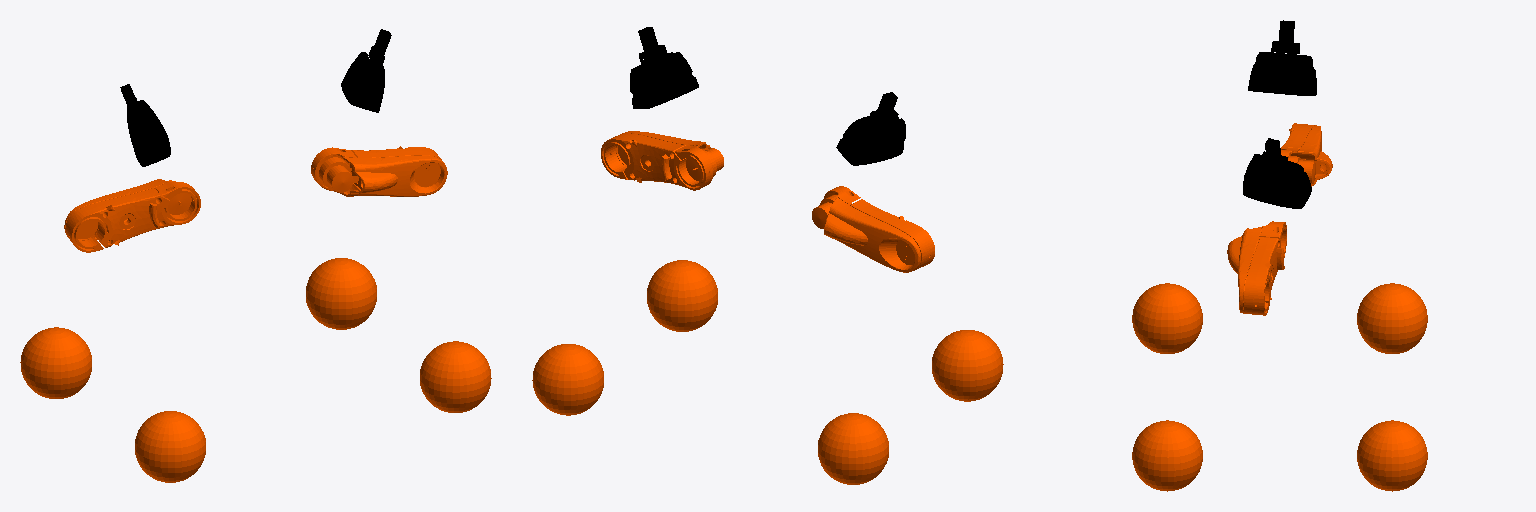
--- Facts derived from the render (not from the file) ---
3 views of the same robot in one strip: view 1: azimuth 30°, elevation 25°; view 2: azimuth 150°, elevation 25°; view 3: azimuth 270°, elevation 25° (orthographic).
Robot: youbot — 29 links, 28 joints (10 revolute, 8 continuous, 4 prismatic, 6 fixed); root link base_footprint; default pose: every joint at zero.
Visible links, largest first — view 1: arm_2_link_3, arm_link_3, wheel_link_fl, wheel_link_br, wheel_link_fr, wheel_link_bl, gripper_palm_link, gripper_2_palm_link; view 2: arm_2_link_3, arm_link_3, wheel_link_bl, wheel_link_fr, wheel_link_br, wheel_link_fl, gripper_palm_link, gripper_2_palm_link; view 3: wheel_link_bl, wheel_link_br, wheel_link_fl, wheel_link_fr, arm_link_3, gripper_2_palm_link, gripper_palm_link, arm_2_link_3.
Boxes of the visible links, x1,y1,x2,y2 form: arm_2_link_3: (64,179,200,252); arm_link_3: (311,146,447,196); wheel_link_fl: (306,258,376,329); wheel_link_br: (135,411,205,482); wheel_link_fr: (420,341,491,412); wheel_link_bl: (20,327,91,398); gripper_palm_link: (341,52,384,112); gripper_2_palm_link: (127,100,170,166); arm_2_link_3: (812,186,934,272); arm_link_3: (601,131,723,190); wheel_link_bl: (818,413,888,484); wheel_link_fr: (647,260,717,331); wheel_link_br: (932,330,1003,401); wheel_link_fl: (532,344,603,415); gripper_palm_link: (630,52,698,108); gripper_2_palm_link: (836,113,905,165); wheel_link_bl: (1357,283,1427,353); wheel_link_br: (1132,283,1202,353); wheel_link_fl: (1357,420,1427,491); wheel_link_fr: (1132,420,1202,491); arm_link_3: (1227,221,1286,315); gripper_2_palm_link: (1248,52,1316,95); gripper_palm_link: (1243,154,1311,208); arm_2_link_3: (1281,123,1332,186).
Bounding box of the posed robot: 0.5621 × 0.416 × 0.527 m (x, y, z).
Meshes: 10 distinct files referenced, 8 mesh visuals loaded (3 Collada DAE); not drawn: 12 (reference not matched to a file when rendering).

The robot description file, URDF, robot "youbot":
<?xml version="1.0" ?>
<!-- =================================================================================== -->
<!-- |    This document was autogenerated by xacro from robots/youbot_dual_arm.urdf.xacro | -->
<!-- |    EDITING THIS FILE BY HAND IS NOT RECOMMENDED                                 | -->
<!-- =================================================================================== -->
<robot name="youbot" xmlns:controller="http://playerstage.sourceforge.net/gazebo/xmlschema/#controller" xmlns:interface="http://playerstage.sourceforge.net/gazebo/xmlschema/#interface" xmlns:sensor="http://playerstage.sourceforge.net/gazebo/xmlschema/#sensor" xmlns:xacro="http://playerstage.sourceforge.net/gazebo/xmlschema/#interface">
  <!--property name="" value="0.360" /-->
  &gt;

	
  <gazebo>
    <plugin filename="libgazebo_ros_control.so" name="gazebo_ros_controller"/>
  </gazebo>
  <material name="Orange">
    <color rgba="1.0 0.4 0.0 1.0"/>
  </material>
  <material name="Grey">
    <color rgba="0.7 0.7 0.7 1.0"/>
  </material>
  <material name="DarkGrey">
    <color rgba="0.3 0.3 0.3 1.0"/>
  </material>
  <material name="White">
    <color rgba="1.0 1.0 1.0 1.0"/>
  </material>
  <material name="Black">
    <color rgba="0.0 0.0 0.0 1.0"/>
  </material>
  <material name="Red">
    <color rgba="1.0 0.0 0.0 1.0"/>
  </material>
  <material name="Green">
    <color rgba="0.0 1.0 0.0 1.0"/>
  </material>
  <material name="Blue">
    <color rgba="0.0 0.0 0.8 1.0"/>
  </material>
  <material name="LightGrey">
    <color rgba="0.82 0.82 0.82 1.0"/>
  </material>
  <!-- Now we can start using the macros xacro:included above to define the actual youbot -->
  <!-- The first use of a macro.  This one was defined in base.urdf.xacro above.
       A macro like this will expand to a set of link and joint definitions, and to additional
       Gazebo-related extensions (sensor plugins, etc).  The macro takes an argument, name, 
       that equals "base", and uses it to generate names for its component links and joints 
       (e.g., base_link).  The xacro:included origin block is also an argument to the macro.  By convention, 
       the origin block defines where the component is w.r.t its parent (in this case the parent 
       is the world frame). For more, see http://www.ros.org/wiki/xacro -->
  <link name="base_footprint">
    <inertial>
      <mass value="0.1"/>
      <origin rpy="0 0 0" xyz="0 0 -0.05"/>
      <inertia ixx="1.0" ixy="0.0" ixz="0.0" iyy="1.0" iyz="0.0" izz="1.0"/>
    </inertial>
    <visual>
      <origin rpy="0 0 0" xyz="0 0 0"/>
      <geometry>
        <box size="0.001 0.001 0.001"/>
      </geometry>
      <material name="Red"/>
    </visual>
    <collision>
      <origin rpy="0 0 0" xyz="0 0 -0.05"/>
      <geometry>
        <box size="0.001 0.001 0.001"/>
      </geometry>
    </collision>
  </link>
  <joint name="base_footprint_joint" type="fixed">
    <origin rpy="0 0 0" xyz="0 0 0"/>
    <child link="base_link"/>
    <parent link="base_footprint"/>
  </joint>
  <link name="base_link">
    <inertial>
      <mass value="22.0"/>
      <origin xyz="0 0 0"/>
      <inertia ixx="5.652232699207" ixy="-0.009719934438" ixz="1.293988226423" iyy="5.669473158652" iyz="-0.007379583694" izz="3.683196351726"/>
    </inertial>
    <visual>
      <origin rpy="0 0 0" xyz="0 0 0"/>
      <geometry>
        <mesh filename="meshes/youbot_base/base.dae"/>
      </geometry>
      <material name="DarkGrey"/>
    </visual>
    <collision>
      <origin rpy="0 0 0" xyz="0 0 0"/>
      <geometry>
        <!--<box size="${base_size_x} ${base_size_y} ${base_size_z}" />-->
        <mesh filename="meshes/youbot_base/base_convex.dae"/>
      </geometry>
    </collision>
  </link>
  <!-- front left wheel -->
  <joint name="caster_joint_fl" type="continuous">
    <origin rpy="0 0 0" xyz="0.228 0.158 -0.034"/>
    <axis xyz="0 0 1"/>
    <limit effort="30" velocity="10"/>
    <dynamics damping="1.0" friction="1.0"/>
    <safety_controller k_velocity="10.0"/>
    <parent link="base_link"/>
    <child link="caster_link_fl"/>
  </joint>
  <link name="caster_link_fl">
    <inertial>
      <mass value="0.1"/>
      <origin xyz="0 0 0"/>
      <inertia ixx="0.012411765597" ixy="-0.000711733678" ixz="0.00050272983" iyy="0.015218160428" iyz="-0.000004273467" izz="0.011763977943"/>
    </inertial>
  </link>
  <joint name="wheel_joint_fl" type="continuous">
    <axis xyz="0 1 0"/>
    <limit effort="30" velocity="10"/>
    <origin rpy="0 0 0" xyz="0.0 0.0 0.0"/>
    <parent link="caster_link_fl"/>
    <dynamics damping="1.0" friction="1.0"/>
    <safety_controller k_velocity="10.0"/>
    <child link="wheel_link_fl"/>
  </joint>
  <link name="wheel_link_fl">
    <inertial>
      <mass value="0.4"/>
      <origin xyz="0 0 0"/>
      <inertia ixx="0.012411765597" ixy="-0.000711733678" ixz="0.00050272983" iyy="0.015218160428" iyz="-0.000004273467" izz="0.011763977943"/>
    </inertial>
    <visual>
      <origin rpy="0 0 0" xyz="0 0 0"/>
      <!--<mesh filename="meshes/youbot_base/youbot_wheel.stl" />-->
      <geometry>
        <sphere radius="0.05"/>
      </geometry>
      <material name="Orange"/>
    </visual>
    <collision>
      <origin rpy="1.57079632679 0 0" xyz="0 0 0"/>
      <geometry>
        <cylinder length="0.05" radius="0.05"/>
      </geometry>
    </collision>
  </link>
  <!-- front right wheel -->
  <joint name="caster_joint_fr" type="continuous">
    <origin rpy="0 0 0" xyz="0.228 -0.158 -0.034"/>
    <axis xyz="0 0 1"/>
    <limit effort="30" velocity="10"/>
    <dynamics damping="1.0" friction="1.0"/>
    <safety_controller k_velocity="10.0"/>
    <parent link="base_link"/>
    <child link="caster_link_fr"/>
  </joint>
  <link name="caster_link_fr">
    <inertial>
      <mass value="0.1"/>
      <origin xyz="0 0 0"/>
      <inertia ixx="0.012411765597" ixy="-0.000711733678" ixz="0.00050272983" iyy="0.015218160428" iyz="-0.000004273467" izz="0.011763977943"/>
    </inertial>
  </link>
  <joint name="wheel_joint_fr" type="continuous">
    <axis xyz="0 1 0"/>
    <limit effort="30" velocity="10"/>
    <dynamics damping="1.0" friction="1.0"/>
    <safety_controller k_velocity="10.0"/>
    <origin rpy="0 0 0" xyz="0.0 0.0 0.0"/>
    <parent link="caster_link_fr"/>
    <child link="wheel_link_fr"/>
  </joint>
  <link name="wheel_link_fr">
    <inertial>
      <mass value="0.4"/>
      <origin xyz="0 0 0"/>
      <inertia ixx="0.012411765597" ixy="-0.000711733678" ixz="0.00050272983" iyy="0.015218160428" iyz="-0.000004273467" izz="0.011763977943"/>
    </inertial>
    <visual>
      <origin rpy="0 0 0" xyz="0 0 0"/>
      <geometry>
        <!--<mesh filename="meshes/youbot_base/youbot_wheel.stl" />-->
        <sphere radius="0.05"/>
      </geometry>
      <material name="Orange"/>
    </visual>
    <collision>
      <origin rpy="1.57079632679 0 0" xyz="0 0 0"/>
      <geometry>
        <cylinder length="0.05" radius="0.05"/>
      </geometry>
    </collision>
  </link>
  <!-- back left wheel -->
  <joint name="caster_joint_bl" type="continuous">
    <origin rpy="0 0 0" xyz="-0.228 0.158 -0.034"/>
    <axis xyz="0 0 1"/>
    <limit effort="30" velocity="10"/>
    <dynamics damping="1.0" friction="1.0"/>
    <safety_controller k_velocity="10.0"/>
    <parent link="base_link"/>
    <child link="caster_link_bl"/>
  </joint>
  <link name="caster_link_bl">
    <inertial>
      <mass value="0.1"/>
      <origin xyz="0 0 0"/>
      <inertia ixx="0.012411765597" ixy="-0.000711733678" ixz="0.00050272983" iyy="0.015218160428" iyz="-0.000004273467" izz="0.011763977943"/>
    </inertial>
  </link>
  <joint name="wheel_joint_bl" type="continuous">
    <axis xyz="0 1 0"/>
    <limit effort="10" velocity="10"/>
    <limit effort="30" velocity="10"/>
    <dynamics damping="1.0" friction="1.0"/>
    <safety_controller k_velocity="10.0"/>
    <origin rpy="0 0 0" xyz="0.0 0.0 0.0"/>
    <parent link="caster_link_bl"/>
    <child link="wheel_link_bl"/>
  </joint>
  <link name="wheel_link_bl">
    <inertial>
      <mass value="0.4"/>
      <origin xyz="0 0 0"/>
      <inertia ixx="0.012411765597" ixy="-0.000711733678" ixz="0.00050272983" iyy="0.015218160428" iyz="-0.000004273467" izz="0.011763977943"/>
    </inertial>
    <visual>
      <origin rpy="0 0 0" xyz="0 0 0"/>
      <geometry>
        <!--<mesh filename="meshes/youbot_base/youbot_wheel.stl" />-->
        <sphere radius="0.05"/>
      </geometry>
      <material name="Orange"/>
    </visual>
    <collision>
      <origin rpy="1.57079632679 0 0" xyz="0 0 0"/>
      <geometry>
        <cylinder length="0.05" radius="0.05"/>
      </geometry>
    </collision>
  </link>
  <!-- back right wheel -->
  <joint name="caster_joint_br" type="continuous">
    <origin rpy="0 0 0" xyz="-0.228 -0.158 -0.034"/>
    <axis xyz="0 0 1"/>
    <limit effort="30" velocity="10"/>
    <dynamics damping="1.0" friction="1.0"/>
    <safety_controller k_velocity="10.0"/>
    <parent link="base_link"/>
    <child link="caster_link_br"/>
  </joint>
  <link name="caster_link_br">
    <inertial>
      <mass value="0.1"/>
      <origin xyz="0 0 0"/>
      <inertia ixx="0.012411765597" ixy="-0.000711733678" ixz="0.00050272983" iyy="0.015218160428" iyz="-0.000004273467" izz="0.011763977943"/>
    </inertial>
  </link>
  <joint name="wheel_joint_br" type="continuous">
    <axis xyz="0 1 0"/>
    <limit effort="30" velocity="10"/>
    <dynamics damping="1.0" friction="1.0"/>
    <safety_controller k_velocity="10.0"/>
    <origin rpy="0 0 0" xyz="0.0 0.0 0.0"/>
    <parent link="caster_link_br"/>
    <child link="wheel_link_br"/>
  </joint>
  <link name="wheel_link_br">
    <inertial>
      <mass value="0.4"/>
      <origin xyz="0 0 0"/>
      <inertia ixx="0.012411765597" ixy="-0.000711733678" ixz="0.00050272983" iyy="0.015218160428" iyz="-0.000004273467" izz="0.011763977943"/>
    </inertial>
    <visual>
      <origin rpy="0 0 0" xyz="0 0 0"/>
      <geometry>
        <!--<mesh filename="meshes/youbot_base/youbot_wheel.stl" />-->
        <sphere radius="0.05"/>
      </geometry>
      <material name="Orange"/>
    </visual>
    <collision>
      <origin rpy="1.57079632679 0 0" xyz="0 0 0"/>
      <geometry>
        <cylinder length="0.05" radius="0.05"/>
      </geometry>
    </collision>
  </link>
  <gazebo reference="youbot_base">
    <material value="youbot/DarkGrey"/>
  </gazebo>
  <!-- front left wheel -->
  <gazebo reference="wheel_link_fl">
    <material value="youbot/Orange"/>
    <kp>1000000</kp>
    <kd>100</kd>
  </gazebo>
  <gazebo reference="caster_link_fl">
    <material value="youbot/Orange"/>
  </gazebo>
  <!-- front right wheel -->
  <gazebo reference="wheel_link_fr">
    <material value="youbot/Orange"/>
    <kp>1000000</kp>
    <kd>100</kd>
  </gazebo>
  <gazebo reference="caster_link_fr">
    <material value="youbot/Orange"/>
  </gazebo>
  <!-- back left wheel -->
  <gazebo reference="wheel_link_bl">
    <material value="youbot/Orange"/>
    <kp>1000000</kp>
    <kd>100</kd>
  </gazebo>
  <gazebo reference="caster_link_bl">
    <material value="youbot/Orange"/>
  </gazebo>
  <!-- back right wheel -->
  <gazebo reference="wheel_link_br">
    <material value="youbot/Orange"/>
    <kp>1000000</kp>
    <kd>100</kd>
  </gazebo>
  <gazebo reference="caster_link_br">
    <material value="youbot/Orange"/>
  </gazebo>
  <!-- position controller -->
  <gazebo>
    <plugin filename="libgazebo_ros_planar_move.so" name="base_controller">
      <commandTopic>cmd_vel</commandTopic>
      <odometryTopic>odom</odometryTopic>
      <odometryFrame>odom</odometryFrame>
      <odometryRate>100.0</odometryRate>
      <robotBaseFrame>base_footprint</robotBaseFrame>
    </plugin>
  </gazebo>
  <!-- front left wheel -->
  <transmission name="wheel_trans_fl">
    <type>transmission_interface/SimpleTransmission</type>
    <actuator name="wheel_motor_fl">
      <hardwareInterface>VelocityJointInterface</hardwareInterface>
      <mechanicalReduction>79.2380952381</mechanicalReduction>
    </actuator>
    <joint name="wheel_joint_fl">
      <hardwareInterface>VelocityJointInterface</hardwareInterface>
    </joint>
  </transmission>
  <transmission name="caster_trans_fl">
    <type>transmission_interface/SimpleTransmission</type>
    <actuator name="caster_motor_fl">
      <hardwareInterface>VelocityJointInterface</hardwareInterface>
      <mechanicalReduction>79.2380952381</mechanicalReduction>
    </actuator>
    <joint name="caster_joint_fl">
      <hardwareInterface>VelocityJointInterface</hardwareInterface>
    </joint>
  </transmission>
  <!-- front right wheel -->
  <transmission name="wheel_trans_fr">
    <type>transmission_interface/SimpleTransmission</type>
    <actuator name="wheel_motor_fr">
      <hardwareInterface>VelocityJointInterface</hardwareInterface>
      <mechanicalReduction>79.2380952381</mechanicalReduction>
    </actuator>
    <joint name="wheel_joint_fr">
      <hardwareInterface>VelocityJointInterface</hardwareInterface>
    </joint>
  </transmission>
  <transmission name="caster_trans_fr">
    <type>transmission_interface/SimpleTransmission</type>
    <actuator name="caster_motor_fr">
      <hardwareInterface>VelocityJointInterface</hardwareInterface>
      <mechanicalReduction>79.2380952381</mechanicalReduction>
    </actuator>
    <joint name="caster_joint_fr">
      <hardwareInterface>VelocityJointInterface</hardwareInterface>
    </joint>
  </transmission>
  <!-- back left wheel -->
  <transmission name="wheel_trans_bl">
    <type>transmission_interface/SimpleTransmission</type>
    <actuator name="wheel_motor_bl">
      <hardwareInterface>VelocityJointInterface</hardwareInterface>
      <mechanicalReduction>79.2380952381</mechanicalReduction>
    </actuator>
    <joint name="wheel_joint_bl">
      <hardwareInterface>VelocityJointInterface</hardwareInterface>
    </joint>
  </transmission>
  <transmission name="caster_trans_bl">
    <type>transmission_interface/SimpleTransmission</type>
    <actuator name="caster_motor_bl">
      <hardwareInterface>VelocityJointInterface</hardwareInterface>
      <mechanicalReduction>79.2380952381</mechanicalReduction>
    </actuator>
    <joint name="caster_joint_bl">
      <hardwareInterface>VelocityJointInterface</hardwareInterface>
    </joint>
  </transmission>
  <!-- back right wheel -->
  <transmission name="wheel_trans_br">
    <type>transmission_interface/SimpleTransmission</type>
    <actuator name="wheel_motor_br">
      <hardwareInterface>VelocityJointInterface</hardwareInterface>
      <mechanicalReduction>79.2380952381</mechanicalReduction>
    </actuator>
    <joint name="wheel_joint_br">
      <hardwareInterface>VelocityJointInterface</hardwareInterface>
    </joint>
  </transmission>
  <transmission name="caster_trans_br">
    <type>transmission_interface/SimpleTransmission</type>
    <actuator name="caster_motor_br">
      <hardwareInterface>VelocityJointInterface</hardwareInterface>
      <mechanicalReduction>79.2380952381</mechanicalReduction>
    </actuator>
    <joint name="caster_joint_br">
      <hardwareInterface>VelocityJointInterface</hardwareInterface>
    </joint>
  </transmission>
  <!-- joint between base_link and arm_0_link -->
  <joint name="arm_joint_0" type="fixed">
    <origin rpy="0 0 0" xyz="0.123 0 0.046"/>
    <parent link="base_link"/>
    <child link="arm_link_0"/>
  </joint>
  <link name="arm_link_0">
    <inertial>
      <!--<origin xyz="0.023 0 0.006" rpy="0 0 0"/>-->
      <origin rpy="0 0 0" xyz="0 0 0"/>
      <mass value="0.845"/>
      <inertia ixx="0.01" ixy="0" ixz="0" iyy="0.01" iyz="0" izz="0.01"/>
    </inertial>
    <visual>
      <origin rpy="0 0 0" xyz="0 0 0"/>
      <geometry>
        <mesh filename="meshes/youbot_arm/arm0.dae"/>
      </geometry>
      <material name="DarkGrey"/>
    </visual>
    <collision>
      <!--<origin xyz="0.023 0 0.006" rpy="0 0 0"/>-->
      <origin rpy="0 0 0" xyz="0 0 0"/>
      <geometry>
        <mesh filename="meshes/youbot_arm/arm0_convex.dae"/>
        <!--<cylinder length="0.078" radius="0.093"/>-->
      </geometry>
    </collision>
  </link>
  <!-- joint between arm_0_link and arm_1_link -->
  <joint name="arm_joint_1" type="revolute">
    <origin rpy="0 0 2.96705972839" xyz="0.024 0 0.096"/>
    <parent link="arm_link_0"/>
    <child link="arm_link_1"/>
    <axis xyz="0 0 -1"/>
    <!--<calibration rising="${arm_1_ref}" falling="${arm_1_ref}"/>-->
    <dynamics damping="1" friction="1"/>
    <!-- damping - N*s/m, N*s*m/rad -->
    <!-- friction - N, N*m -->
    <limit effort="9.5" lower="0" upper="5.89921287174" velocity="1.57079632679"/>
    <!--effort - N, N*m-->
    <!--velocity - m/s, rad/s-->
    <safety_controller k_position="20" k_velocity="1.51197195937" soft_lower_limit="0.001" soft_upper_limit="5.89821287174"/>
    <!--k_position N/m, N/rad-->
    <!--k_velocity N*s/m, N*s*m/rad-->
    <!--for details: http://www.ros.org/wiki/pr2_controller_manager/safety_limits-->
  </joint>
  <link name="arm_link_1">
    <inertial>
      <mass value="2.412"/>
      <origin rpy="0 0 0" xyz="0.01489 0.00213 0.00213"/>
      <inertia ixx="0.003863" ixy="-0.000979" ixz="0.000000" iyy="0.006196" iyz="0.000000" izz="0.006369"/>
    </inertial>
    <visual>
      <origin rpy="0 0 0" xyz="0 0 0"/>
      <geometry>
        <mesh filename="meshes/youbot_arm/arm1.dae"/>
      </geometry>
      <!--<material name="Orange" />-->
    </visual>
    <collision>
      <!--<origin xyz="0 0 -0.003" rpy="0 0 0" />-->
      <origin rpy="0 0 0" xyz="0 0 0"/>
      <geometry>
        <mesh filename="meshes/youbot_arm/arm1_convex.dae"/>
        <!--<cylinder length="0.102" radius="0.080"/>-->
      </geometry>
    </collision>
  </link>
  <!-- joint between arm_1_link and arm_2_link -->
  <joint name="arm_joint_2" type="revolute">
    <origin rpy="0 -1.1344640138 0" xyz="0.033 0 0.019"/>
    <parent link="arm_link_1"/>
    <child link="arm_link_2"/>
    <axis xyz="0 1 0"/>
    <!--<calibration rising="${arm_2_ref}" falling="${arm_2_ref}"/>-->
    <dynamics damping="1" friction="1"/>
    <limit effort="9.5" lower="0" upper="2.70526034059" velocity="1.57079632679"/>
    <safety_controller k_position="20" k_velocity="6.04788783749" soft_lower_limit="0.001" soft_upper_limit="2.70426034059"/>
  </joint>
  <link name="arm_link_2">
    <inertial>
      <mass value="1.155"/>
      <origin rpy="0 0 0" xyz="0.10453 0.0017 -0.00297"/>
      <inertia ixx="0.000823" ixy="0.000000" ixz="-0.000000" iyy="0.004447" iyz="0.000000" izz="0.004439"/>
    </inertial>
    <visual>
      <origin rpy="0 0 0" xyz="0 -0.032 0.078"/>
      <geometry>
        <mesh filename="meshes/youbot_arm/arm2.dae"/>
      </geometry>
      <material name="Orange"/>
    </visual>
    <collision>
      <!--<origin xyz="0.001 -0.041 0.074" rpy="0 0 0" />-->
      <origin rpy="0 0 0" xyz="0 -0.032 0.078"/>
      <geometry>
        <mesh filename="meshes/youbot_arm/arm2_convex.dae"/>
        <!--<box size="0.074 0.082 0.222"/>-->
      </geometry>
    </collision>
  </link>
  <!-- joint between arm_2_link and arm_3_link -->
  <!--<joint name="${name}_joint_3" type="revolute">
			<origin xyz="0.000 0.000 0.155" rpy="0 ${146 * M_PI / 180} 0"/>
			<parent link="${name}_link_2"/>
			<child link="${name}_link_3"/>
			<axis xyz="0 1 0"/>
			<dynamics damping="1" friction="1" />
			<limit effort="${6}" velocity="${M_PI / 2.0}" lower="-${joint_3_limit}" upper="0"/>
                        <safety_controller k_position="20" k_velocity="50" soft_lower_limit="-${joint_3_limit_soft}" soft_upper_limit="${threshold}" />
		</joint>-->
  <joint name="arm_joint_3" type="revolute">
    <origin rpy="0 2.54818070791 0" xyz="0.000 0.000 0.155"/>
    <parent link="arm_link_2"/>
    <child link="arm_link_3"/>
    <axis xyz="0 1 0"/>
    <dynamics damping="1" friction="1"/>
    <limit effort="6" lower="-5.18362787842" upper="0" velocity="1.57079632679"/>
    <safety_controller k_position="20" k_velocity="50" soft_lower_limit="-5.18262787842" soft_upper_limit="-0.001"/>
  </joint>
  <link name="arm_link_3">
    <inertial>
      <mass value="0.934"/>
      <origin rpy="0 0 0" xyz="0.0001 0.0967 0.02107"/>
      <inertia ixx="0.002459" ixy="0.000000" ixz="0.000000" iyy="0.002571" iyz="-0.000000" izz="0.000535"/>
    </inertial>
    <visual>
      <origin rpy="0 0 0" xyz="0.000 0.028 0.079"/>
      <geometry>
        <mesh filename="meshes/youbot_arm/arm3.dae"/>
      </geometry>
      <material name="Orange"/>
    </visual>
    <collision>
      <!--<origin xyz="0.000 0.025 0.067" rpy="0 0 0" />-->
      <origin rpy="0 0 0" xyz="0.000 0.028 0.079"/>
      <geometry>
        <mesh filename="meshes/youbot_arm/arm3_convex.dae"/>
        <!--<box size="0.064 0.054 0.192"/>-->
      </geometry>
    </collision>
  </link>
  <!-- joint between arm_3_link and arm_4_link -->
  <joint name="arm_joint_4" type="revolute">
    <origin rpy="0 -1.78896248329 0" xyz="0.000 0.000 0.135"/>
    <parent link="arm_link_3"/>
    <child link="arm_link_4"/>
    <axis xyz="0 1 0"/>
    <!--<calibration rising="${arm_4_ref}" falling="${arm_4_ref}"/>-->
    <dynamics damping="1" friction="1"/>
    <limit effort="2" lower="0" upper="3.57792496659" velocity="1.57079632679"/>
    <safety_controller k_position="20" k_velocity="100" soft_lower_limit="0" soft_upper_limit="3.57692496659"/>
  </joint>
  <link name="arm_link_4">
    <inertial>
      <mass value="0.877"/>
      <origin rpy="0 0 0" xyz="0.00011 0.05103 -0.02319"/>
      <inertia ixx="0.000869" ixy="0.000000" ixz="-0.000000" iyy="0.001173" iyz="-0.000231" izz="0.001091"/>
    </inertial>
    <visual>
      <origin rpy="0 0 0" xyz="0 -0.010 0.029"/>
      <geometry>
        <mesh filename="meshes/youbot_arm/arm4.dae"/>
      </geometry>
      <material name="Orange"/>
    </visual>
    <collision>
      <!--<origin xyz="0 0 0.026" rpy="0 0 0" />-->
      <origin rpy="0 0 0" xyz="0 -0.010 0.029"/>
      <geometry>
        <mesh filename="meshes/youbot_arm/arm4_convex.dae"/>
        <!--<box size="0.058 0.100 0.118"/>-->
      </geometry>
    </collision>
  </link>
  <!-- joint between arm_4_link and arm_5_link -->
  <joint name="arm_joint_5" type="revolute">
    <origin rpy="0 0 2.92342649709" xyz="-0.002 0 0.130"/>
    <parent link="arm_link_4"/>
    <child link="arm_link_5"/>
    <axis xyz="0 0 -1"/>
    <!--<calibration rising="${arm_5_ref}" falling="${arm_5_ref}"/>-->
    <dynamics damping="1" friction="1"/>
    <limit effort="1" lower="0" upper="5.84685299418" velocity="1.57079632679"/>
    <safety_controller k_position="20" k_velocity="100" soft_lower_limit="0" soft_upper_limit="5.84585299418"/>
  </joint>
  <link name="arm_link_5">
    <inertial>
      <mass value="0.251"/>
      <origin rpy="0 0 0" xyz="0.0 0.00115 -0.01683"/>
      <inertia ixx="0.000280" ixy="0.000000" ixz="0.000000" iyy="0.000339" iyz="0.000000" izz="0.000119"/>
    </inertial>
    <visual>
      <origin rpy="0 0 0" xyz="0.003 0 -0.034"/>
      <geometry>
        <mesh filename="meshes/youbot_arm/arm5.dae"/>
      </geometry>
      <material name="DarkGrey"/>
    </visual>
    <collision>
      <origin rpy="0 0 0" xyz="0.003 0 -0.034"/>
      <geometry>
        <mesh filename="meshes/youbot_arm/arm5_convex.dae"/>
        <!--<box size="0.054 0.096 0.030"/>-->
      </geometry>
    </collision>
  </link>
  <gazebo reference="arm_link_0">
    <material value="youbot/DarkGrey"/>
    <turnGravityOff>false</turnGravityOff>
  </gazebo>
  <gazebo reference="arm_link_1">
    <!--<material value="youbot/Orange" />-->
    <turnGravityOff>false</turnGravityOff>
  </gazebo>
  <gazebo reference="arm_link_2">
    <!--<material value="youbot/Orange" />-->
    <turnGravityOff>false</turnGravityOff>
  </gazebo>
  <gazebo reference="arm_link_3">
    <!--<material value="youbot/Orange" />-->
    <turnGravityOff>false</turnGravityOff>
  </gazebo>
  <gazebo reference="arm_link_4">
    <!--<material value="youbot/Orange" />-->
    <turnGravityOff>false</turnGravityOff>
  </gazebo>
  <gazebo reference="arm_link_5">
    <!--<material value="youbot/DarkGrey" />-->
    <turnGravityOff>false</turnGravityOff>
  </gazebo>
  <transmission name="arm_trans_1">
    <type>transmission_interface/SimpleTransmission</type>
    <actuator name="arm_motor_1">
      <hardwareInterface>EffortJointInterface</hardwareInterface>
      <mechanicalReduction>1</mechanicalReduction>
    </actuator>
    <joint name="arm_joint_1">
      <hardwareInterface>EffortJointInterface</hardwareInterface>
    </joint>
  </transmission>
  <transmission name="arm_trans_2">
    <type>transmission_interface/SimpleTransmission</type>
    <actuator name="arm_motor_2">
      <hardwareInterface>EffortJointInterface</hardwareInterface>
      <mechanicalReduction>1</mechanicalReduction>
    </actuator>
    <joint name="arm_joint_2">
      <hardwareInterface>EffortJointInterface</hardwareInterface>
    </joint>
  </transmission>
  <transmission name="arm_trans_3">
    <type>transmission_interface/SimpleTransmission</type>
    <actuator name="arm_motor_3">
      <hardwareInterface>EffortJointInterface</hardwareInterface>
      <mechanicalReduction>1</mechanicalReduction>
    </actuator>
    <joint name="arm_joint_3">
      <hardwareInterface>EffortJointInterface</hardwareInterface>
    </joint>
  </transmission>
  <transmission name="arm_trans_4">
    <type>transmission_interface/SimpleTransmission</type>
    <actuator name="arm_motor_4">
      <hardwareInterface>EffortJointInterface</hardwareInterface>
      <mechanicalReduction>1</mechanicalReduction>
    </actuator>
    <joint name="arm_joint_4">
      <hardwareInterface>EffortJointInterface</hardwareInterface>
    </joint>
  </transmission>
  <transmission name="arm_trans_5">
    <type>transmission_interface/SimpleTransmission</type>
    <actuator name="arm_motor_5">
      <hardwareInterface>EffortJointInterface</hardwareInterface>
      <mechanicalReduction>1</mechanicalReduction>
    </actuator>
    <joint name="arm_joint_5">
      <hardwareInterface>EffortJointInterface</hardwareInterface>
    </joint>
  </transmission>
  <!-- joint between arm_7_link and sdh_palm_link -->
  <joint name="gripper_palm_joint" type="fixed">
    <origin rpy="0 0 0" xyz="0 0 0"/>
    <parent link="arm_link_5"/>
    <child link="gripper_palm_link"/>
  </joint>
  <link name="gripper_palm_link">
    <inertial>
      <origin rpy="0 0 0" xyz="0 0 0"/>
      <mass value="0.1"/>
      <inertia ixx="0.01" ixy="0" ixz="0" iyy="0.01" iyz="0" izz="0.01"/>
    </inertial>
    <visual>
      <origin rpy="0 0 0" xyz="0 0 0"/>
      <geometry>
        <mesh filename="meshes/youbot_gripper/palm.dae"/>
      </geometry>
      <material name="Black"/>
    </visual>
    <collision>
      <origin rpy="0 0 0" xyz="0 0 0"/>
      <geometry>
        <!--<box size="0.050 0.094 0.054"/>-->
        <mesh filename="meshes/youbot_gripper/palm_convex.dae"/>
      </geometry>
    </collision>
  </link>
  <joint name="gripper_finger_joint_l" type="prismatic">
    <origin rpy="0 0 3.14159265359" xyz="0.004 0.008 0.046"/>
    <parent link="gripper_palm_link"/>
    <child link="gripper_finger_link_l"/>
    <axis xyz="0 -1 0"/>
    <dynamics damping="1.0" friction="1.0"/>
    <limit effort="1" lower="0" upper="0.0115" velocity="0.1"/>
    <safety_controller k_position="20" k_velocity="25" soft_lower_limit="0.001" soft_upper_limit="0.011"/>
  </joint>
  <link name="gripper_finger_link_l">
    <inertial>
      <origin rpy="0 0 0" xyz="0 -0.001 0"/>
      <mass value="0.01"/>
      <inertia ixx="0.01" ixy="0" ixz="0" iyy="0.01" iyz="0" izz="0.01"/>
    </inertial>
    <visual>
      <origin rpy="0 0 0" xyz="0 0 0"/>
      <geometry>
        <mesh filename="meshes/youbot_gripper/finger.dae"/>
      </geometry>
      <material name="Black"/>
    </visual>
    <collision>
      <origin rpy="0 0 0" xyz="0 0 0"/>
      <geometry>
        <!--<box size="0.014 0.020 0.046"/>-->
        <mesh filename="meshes/youbot_gripper/finger_convex.dae"/>
      </geometry>
    </collision>
  </link>
  <joint name="gripper_finger_joint_r" type="prismatic">
    <origin rpy="0 0 0" xyz="0.004 -0.008 0.046"/>
    <parent link="gripper_palm_link"/>
    <child link="gripper_finger_link_r"/>
    <axis xyz="0 -1 0"/>
    <dynamics damping="1.0" friction="1.0"/>
    <limit effort="1" lower="0" upper="0.0115" velocity="0.1"/>
    <safety_controller k_position="20" k_velocity="25" soft_lower_limit="0.001" soft_upper_limit="0.011"/>
  </joint>
  <link name="gripper_finger_link_r">
    <inertial>
      <origin rpy="0 0 0" xyz="0.000 -0.001 0"/>
      <mass value="0.01"/>
      <inertia ixx="0.01" ixy="0" ixz="0" iyy="0.01" iyz="0" izz="0.01"/>
    </inertial>
    <visual>
      <origin rpy="0 0 0" xyz="0 0 0"/>
      <geometry>
        <mesh filename="meshes/youbot_gripper/finger.dae"/>
      </geometry>
      <material name="Black"/>
    </visual>
    <collision>
      <origin rpy="0 0 0" xyz="0.000 0 0"/>
      <geometry>
        <!--<box size="0.014 0.020 0.046"/>-->
        <mesh filename="meshes/youbot_gripper/finger_convex.dae"/>
      </geometry>
    </collision>
  </link>
  <gazebo reference="gripper_palm_link">
    <material>Gazebo/Black</material>
    <turnGravityOff>false</turnGravityOff>
    <selfCollide>true</selfCollide>
  </gazebo>
  <gazebo reference="gripper_finger_l_link">
    <material>Gazebo/Black</material>
    <turnGravityOff>false</turnGravityOff>
    <selfCollide>true</selfCollide>
  </gazebo>
  <gazebo reference="gripper_finger_r_link">
    <material>Gazebo/Black</material>
    <turnGravityOff>false</turnGravityOff>
    <selfCollide>true</selfCollide>
  </gazebo>
  <transmission name="gripper_finger_l_trans">
    <type>transmission_interface/SimpleTransmission</type>
    <actuator name="gripper_finger_l_motor">
      <hardwareInterface>EffortJointInterface</hardwareInterface>
      <mechanicalReduction>1</mechanicalReduction>
    </actuator>
    <joint name="gripper_finger_joint_l">
      <hardwareInterface>EffortJointInterface</hardwareInterface>
    </joint>
  </transmission>
  <transmission name="gripper_finger_r_trans">
    <type>transmission_interface/SimpleTransmission</type>
    <actuator name="gripper_finger_r_motor">
      <hardwareInterface>EffortJointInterface</hardwareInterface>
      <mechanicalReduction>1</mechanicalReduction>
    </actuator>
    <joint name="gripper_finger_joint_r">
      <hardwareInterface>EffortJointInterface</hardwareInterface>
    </joint>
  </transmission>
  <!-- joint between base_link and arm_0_link -->
  <joint name="arm_2_joint_0" type="fixed">
    <origin rpy="0 0 3.1415" xyz="-0.123 0 0.046"/>
    <parent link="base_link"/>
    <child link="arm_2_link_0"/>
  </joint>
  <link name="arm_2_link_0">
    <inertial>
      <!--<origin xyz="0.023 0 0.006" rpy="0 0 0"/>-->
      <origin rpy="0 0 0" xyz="0 0 0"/>
      <mass value="0.845"/>
      <inertia ixx="0.01" ixy="0" ixz="0" iyy="0.01" iyz="0" izz="0.01"/>
    </inertial>
    <visual>
      <origin rpy="0 0 0" xyz="0 0 0"/>
      <geometry>
        <mesh filename="meshes/youbot_arm/arm0.dae"/>
      </geometry>
      <material name="DarkGrey"/>
    </visual>
    <collision>
      <!--<origin xyz="0.023 0 0.006" rpy="0 0 0"/>-->
      <origin rpy="0 0 0" xyz="0 0 0"/>
      <geometry>
        <mesh filename="meshes/youbot_arm/arm0_convex.dae"/>
        <!--<cylinder length="0.078" radius="0.093"/>-->
      </geometry>
    </collision>
  </link>
  <!-- joint between arm_0_link and arm_1_link -->
  <joint name="arm_2_joint_1" type="revolute">
    <origin rpy="0 0 2.96705972839" xyz="0.024 0 0.096"/>
    <parent link="arm_2_link_0"/>
    <child link="arm_2_link_1"/>
    <axis xyz="0 0 -1"/>
    <!--<calibration rising="${arm_1_ref}" falling="${arm_1_ref}"/>-->
    <dynamics damping="1" friction="1"/>
    <!-- damping - N*s/m, N*s*m/rad -->
    <!-- friction - N, N*m -->
    <limit effort="9.5" lower="0" upper="5.89921287174" velocity="1.57079632679"/>
    <!--effort - N, N*m-->
    <!--velocity - m/s, rad/s-->
    <safety_controller k_position="20" k_velocity="1.51197195937" soft_lower_limit="0.001" soft_upper_limit="5.89821287174"/>
    <!--k_position N/m, N/rad-->
    <!--k_velocity N*s/m, N*s*m/rad-->
    <!--for details: http://www.ros.org/wiki/pr2_controller_manager/safety_limits-->
  </joint>
  <link name="arm_2_link_1">
    <inertial>
      <mass value="2.412"/>
      <origin rpy="0 0 0" xyz="0.01489 0.00213 0.00213"/>
      <inertia ixx="0.003863" ixy="-0.000979" ixz="0.000000" iyy="0.006196" iyz="0.000000" izz="0.006369"/>
    </inertial>
    <visual>
      <origin rpy="0 0 0" xyz="0 0 0"/>
      <geometry>
        <mesh filename="meshes/youbot_arm/arm1.dae"/>
      </geometry>
      <!--<material name="Orange" />-->
    </visual>
    <collision>
      <!--<origin xyz="0 0 -0.003" rpy="0 0 0" />-->
      <origin rpy="0 0 0" xyz="0 0 0"/>
      <geometry>
        <mesh filename="meshes/youbot_arm/arm1_convex.dae"/>
        <!--<cylinder length="0.102" radius="0.080"/>-->
      </geometry>
    </collision>
  </link>
  <!-- joint between arm_1_link and arm_2_link -->
  <joint name="arm_2_joint_2" type="revolute">
    <origin rpy="0 -1.1344640138 0" xyz="0.033 0 0.019"/>
    <parent link="arm_2_link_1"/>
    <child link="arm_2_link_2"/>
    <axis xyz="0 1 0"/>
    <!--<calibration rising="${arm_2_ref}" falling="${arm_2_ref}"/>-->
    <dynamics damping="1" friction="1"/>
    <limit effort="9.5" lower="0" upper="2.70526034059" velocity="1.57079632679"/>
    <safety_controller k_position="20" k_velocity="6.04788783749" soft_lower_limit="0.001" soft_upper_limit="2.70426034059"/>
  </joint>
  <link name="arm_2_link_2">
    <inertial>
      <mass value="1.155"/>
      <origin rpy="0 0 0" xyz="0.10453 0.0017 -0.00297"/>
      <inertia ixx="0.000823" ixy="0.000000" ixz="-0.000000" iyy="0.004447" iyz="0.000000" izz="0.004439"/>
    </inertial>
    <visual>
      <origin rpy="0 0 0" xyz="0 -0.032 0.078"/>
      <geometry>
        <mesh filename="meshes/youbot_arm/arm2.dae"/>
      </geometry>
      <material name="Orange"/>
    </visual>
    <collision>
      <!--<origin xyz="0.001 -0.041 0.074" rpy="0 0 0" />-->
      <origin rpy="0 0 0" xyz="0 -0.032 0.078"/>
      <geometry>
        <mesh filename="meshes/youbot_arm/arm2_convex.dae"/>
        <!--<box size="0.074 0.082 0.222"/>-->
      </geometry>
    </collision>
  </link>
  <!-- joint between arm_2_link and arm_3_link -->
  <!--<joint name="${name}_joint_3" type="revolute">
			<origin xyz="0.000 0.000 0.155" rpy="0 ${146 * M_PI / 180} 0"/>
			<parent link="${name}_link_2"/>
			<child link="${name}_link_3"/>
			<axis xyz="0 1 0"/>
			<dynamics damping="1" friction="1" />
			<limit effort="${6}" velocity="${M_PI / 2.0}" lower="-${joint_3_limit}" upper="0"/>
                        <safety_controller k_position="20" k_velocity="50" soft_lower_limit="-${joint_3_limit_soft}" soft_upper_limit="${threshold}" />
		</joint>-->
  <joint name="arm_2_joint_3" type="revolute">
    <origin rpy="0 2.54818070791 0" xyz="0.000 0.000 0.155"/>
    <parent link="arm_2_link_2"/>
    <child link="arm_2_link_3"/>
    <axis xyz="0 1 0"/>
    <dynamics damping="1" friction="1"/>
    <limit effort="6" lower="-5.18362787842" upper="0" velocity="1.57079632679"/>
    <safety_controller k_position="20" k_velocity="50" soft_lower_limit="-5.18262787842" soft_upper_limit="-0.001"/>
  </joint>
  <link name="arm_2_link_3">
    <inertial>
      <mass value="0.934"/>
      <origin rpy="0 0 0" xyz="0.0001 0.0967 0.02107"/>
      <inertia ixx="0.002459" ixy="0.000000" ixz="0.000000" iyy="0.002571" iyz="-0.000000" izz="0.000535"/>
    </inertial>
    <visual>
      <origin rpy="0 0 0" xyz="0.000 0.028 0.079"/>
      <geometry>
        <mesh filename="meshes/youbot_arm/arm3.dae"/>
      </geometry>
      <material name="Orange"/>
    </visual>
    <collision>
      <!--<origin xyz="0.000 0.025 0.067" rpy="0 0 0" />-->
      <origin rpy="0 0 0" xyz="0.000 0.028 0.079"/>
      <geometry>
        <mesh filename="meshes/youbot_arm/arm3_convex.dae"/>
        <!--<box size="0.064 0.054 0.192"/>-->
      </geometry>
    </collision>
  </link>
  <!-- joint between arm_3_link and arm_4_link -->
  <joint name="arm_2_joint_4" type="revolute">
    <origin rpy="0 -1.78896248329 0" xyz="0.000 0.000 0.135"/>
    <parent link="arm_2_link_3"/>
    <child link="arm_2_link_4"/>
    <axis xyz="0 1 0"/>
    <!--<calibration rising="${arm_4_ref}" falling="${arm_4_ref}"/>-->
    <dynamics damping="1" friction="1"/>
    <limit effort="2" lower="0" upper="3.57792496659" velocity="1.57079632679"/>
    <safety_controller k_position="20" k_velocity="100" soft_lower_limit="0" soft_upper_limit="3.57692496659"/>
  </joint>
  <link name="arm_2_link_4">
    <inertial>
      <mass value="0.877"/>
      <origin rpy="0 0 0" xyz="0.00011 0.05103 -0.02319"/>
      <inertia ixx="0.000869" ixy="0.000000" ixz="-0.000000" iyy="0.001173" iyz="-0.000231" izz="0.001091"/>
    </inertial>
    <visual>
      <origin rpy="0 0 0" xyz="0 -0.010 0.029"/>
      <geometry>
        <mesh filename="meshes/youbot_arm/arm4.dae"/>
      </geometry>
      <material name="Orange"/>
    </visual>
    <collision>
      <!--<origin xyz="0 0 0.026" rpy="0 0 0" />-->
      <origin rpy="0 0 0" xyz="0 -0.010 0.029"/>
      <geometry>
        <mesh filename="meshes/youbot_arm/arm4_convex.dae"/>
        <!--<box size="0.058 0.100 0.118"/>-->
      </geometry>
    </collision>
  </link>
  <!-- joint between arm_4_link and arm_5_link -->
  <joint name="arm_2_joint_5" type="revolute">
    <origin rpy="0 0 2.92342649709" xyz="-0.002 0 0.130"/>
    <parent link="arm_2_link_4"/>
    <child link="arm_2_link_5"/>
    <axis xyz="0 0 -1"/>
    <!--<calibration rising="${arm_5_ref}" falling="${arm_5_ref}"/>-->
    <dynamics damping="1" friction="1"/>
    <limit effort="1" lower="0" upper="5.84685299418" velocity="1.57079632679"/>
    <safety_controller k_position="20" k_velocity="100" soft_lower_limit="0" soft_upper_limit="5.84585299418"/>
  </joint>
  <link name="arm_2_link_5">
    <inertial>
      <mass value="0.251"/>
      <origin rpy="0 0 0" xyz="0.0 0.00115 -0.01683"/>
      <inertia ixx="0.000280" ixy="0.000000" ixz="0.000000" iyy="0.000339" iyz="0.000000" izz="0.000119"/>
    </inertial>
    <visual>
      <origin rpy="0 0 0" xyz="0.003 0 -0.034"/>
      <geometry>
        <mesh filename="meshes/youbot_arm/arm5.dae"/>
      </geometry>
      <material name="DarkGrey"/>
    </visual>
    <collision>
      <origin rpy="0 0 0" xyz="0.003 0 -0.034"/>
      <geometry>
        <mesh filename="meshes/youbot_arm/arm5_convex.dae"/>
        <!--<box size="0.054 0.096 0.030"/>-->
      </geometry>
    </collision>
  </link>
  <gazebo reference="arm_2_link_0">
    <material value="youbot/DarkGrey"/>
    <turnGravityOff>false</turnGravityOff>
  </gazebo>
  <gazebo reference="arm_2_link_1">
    <!--<material value="youbot/Orange" />-->
    <turnGravityOff>false</turnGravityOff>
  </gazebo>
  <gazebo reference="arm_2_link_2">
    <!--<material value="youbot/Orange" />-->
    <turnGravityOff>false</turnGravityOff>
  </gazebo>
  <gazebo reference="arm_2_link_3">
    <!--<material value="youbot/Orange" />-->
    <turnGravityOff>false</turnGravityOff>
  </gazebo>
  <gazebo reference="arm_2_link_4">
    <!--<material value="youbot/Orange" />-->
    <turnGravityOff>false</turnGravityOff>
  </gazebo>
  <gazebo reference="arm_2_link_5">
    <!--<material value="youbot/DarkGrey" />-->
    <turnGravityOff>false</turnGravityOff>
  </gazebo>
  <transmission name="arm_2_trans_1">
    <type>transmission_interface/SimpleTransmission</type>
    <actuator name="arm_2_motor_1">
      <hardwareInterface>EffortJointInterface</hardwareInterface>
      <mechanicalReduction>1</mechanicalReduction>
    </actuator>
    <joint name="arm_2_joint_1">
      <hardwareInterface>EffortJointInterface</hardwareInterface>
    </joint>
  </transmission>
  <transmission name="arm_2_trans_2">
    <type>transmission_interface/SimpleTransmission</type>
    <actuator name="arm_2_motor_2">
      <hardwareInterface>EffortJointInterface</hardwareInterface>
      <mechanicalReduction>1</mechanicalReduction>
    </actuator>
    <joint name="arm_2_joint_2">
      <hardwareInterface>EffortJointInterface</hardwareInterface>
    </joint>
  </transmission>
  <transmission name="arm_2_trans_3">
    <type>transmission_interface/SimpleTransmission</type>
    <actuator name="arm_2_motor_3">
      <hardwareInterface>EffortJointInterface</hardwareInterface>
      <mechanicalReduction>1</mechanicalReduction>
    </actuator>
    <joint name="arm_2_joint_3">
      <hardwareInterface>EffortJointInterface</hardwareInterface>
    </joint>
  </transmission>
  <transmission name="arm_2_trans_4">
    <type>transmission_interface/SimpleTransmission</type>
    <actuator name="arm_2_motor_4">
      <hardwareInterface>EffortJointInterface</hardwareInterface>
      <mechanicalReduction>1</mechanicalReduction>
    </actuator>
    <joint name="arm_2_joint_4">
      <hardwareInterface>EffortJointInterface</hardwareInterface>
    </joint>
  </transmission>
  <transmission name="arm_2_trans_5">
    <type>transmission_interface/SimpleTransmission</type>
    <actuator name="arm_2_motor_5">
      <hardwareInterface>EffortJointInterface</hardwareInterface>
      <mechanicalReduction>1</mechanicalReduction>
    </actuator>
    <joint name="arm_2_joint_5">
      <hardwareInterface>EffortJointInterface</hardwareInterface>
    </joint>
  </transmission>
  <!-- joint between arm_7_link and sdh_palm_link -->
  <joint name="gripper_2_palm_joint" type="fixed">
    <origin rpy="0 0 0" xyz="0 0 0"/>
    <parent link="arm_2_link_5"/>
    <child link="gripper_2_palm_link"/>
  </joint>
  <link name="gripper_2_palm_link">
    <inertial>
      <origin rpy="0 0 0" xyz="0 0 0"/>
      <mass value="0.1"/>
      <inertia ixx="0.01" ixy="0" ixz="0" iyy="0.01" iyz="0" izz="0.01"/>
    </inertial>
    <visual>
      <origin rpy="0 0 0" xyz="0 0 0"/>
      <geometry>
        <mesh filename="meshes/youbot_gripper/palm.dae"/>
      </geometry>
      <material name="Black"/>
    </visual>
    <collision>
      <origin rpy="0 0 0" xyz="0 0 0"/>
      <geometry>
        <!--<box size="0.050 0.094 0.054"/>-->
        <mesh filename="meshes/youbot_gripper/palm_convex.dae"/>
      </geometry>
    </collision>
  </link>
  <joint name="gripper_2_finger_joint_l" type="prismatic">
    <origin rpy="0 0 3.14159265359" xyz="0.004 0.008 0.046"/>
    <parent link="gripper_2_palm_link"/>
    <child link="gripper_2_finger_link_l"/>
    <axis xyz="0 -1 0"/>
    <dynamics damping="1.0" friction="1.0"/>
    <limit effort="1" lower="0" upper="0.0115" velocity="0.1"/>
    <safety_controller k_position="20" k_velocity="25" soft_lower_limit="0.001" soft_upper_limit="0.011"/>
  </joint>
  <link name="gripper_2_finger_link_l">
    <inertial>
      <origin rpy="0 0 0" xyz="0 -0.001 0"/>
      <mass value="0.01"/>
      <inertia ixx="0.01" ixy="0" ixz="0" iyy="0.01" iyz="0" izz="0.01"/>
    </inertial>
    <visual>
      <origin rpy="0 0 0" xyz="0 0 0"/>
      <geometry>
        <mesh filename="meshes/youbot_gripper/finger.dae"/>
      </geometry>
      <material name="Black"/>
    </visual>
    <collision>
      <origin rpy="0 0 0" xyz="0 0 0"/>
      <geometry>
        <!--<box size="0.014 0.020 0.046"/>-->
        <mesh filename="meshes/youbot_gripper/finger_convex.dae"/>
      </geometry>
    </collision>
  </link>
  <joint name="gripper_2_finger_joint_r" type="prismatic">
    <origin rpy="0 0 0" xyz="0.004 -0.008 0.046"/>
    <parent link="gripper_2_palm_link"/>
    <child link="gripper_2_finger_link_r"/>
    <axis xyz="0 -1 0"/>
    <dynamics damping="1.0" friction="1.0"/>
    <limit effort="1" lower="0" upper="0.0115" velocity="0.1"/>
    <safety_controller k_position="20" k_velocity="25" soft_lower_limit="0.001" soft_upper_limit="0.011"/>
  </joint>
  <link name="gripper_2_finger_link_r">
    <inertial>
      <origin rpy="0 0 0" xyz="0.000 -0.001 0"/>
      <mass value="0.01"/>
      <inertia ixx="0.01" ixy="0" ixz="0" iyy="0.01" iyz="0" izz="0.01"/>
    </inertial>
    <visual>
      <origin rpy="0 0 0" xyz="0 0 0"/>
      <geometry>
        <mesh filename="meshes/youbot_gripper/finger.dae"/>
      </geometry>
      <material name="Black"/>
    </visual>
    <collision>
      <origin rpy="0 0 0" xyz="0.000 0 0"/>
      <geometry>
        <!--<box size="0.014 0.020 0.046"/>-->
        <mesh filename="meshes/youbot_gripper/finger_convex.dae"/>
      </geometry>
    </collision>
  </link>
  <gazebo reference="gripper_2_palm_link">
    <material>Gazebo/Black</material>
    <turnGravityOff>false</turnGravityOff>
    <selfCollide>true</selfCollide>
  </gazebo>
  <gazebo reference="gripper_2_finger_l_link">
    <material>Gazebo/Black</material>
    <turnGravityOff>false</turnGravityOff>
    <selfCollide>true</selfCollide>
  </gazebo>
  <gazebo reference="gripper_2_finger_r_link">
    <material>Gazebo/Black</material>
    <turnGravityOff>false</turnGravityOff>
    <selfCollide>true</selfCollide>
  </gazebo>
  <transmission name="gripper_2_finger_l_trans">
    <type>transmission_interface/SimpleTransmission</type>
    <actuator name="gripper_2_finger_l_motor">
      <hardwareInterface>EffortJointInterface</hardwareInterface>
      <mechanicalReduction>1</mechanicalReduction>
    </actuator>
    <joint name="gripper_2_finger_joint_l">
      <hardwareInterface>EffortJointInterface</hardwareInterface>
    </joint>
  </transmission>
  <transmission name="gripper_2_finger_r_trans">
    <type>transmission_interface/SimpleTransmission</type>
    <actuator name="gripper_2_finger_r_motor">
      <hardwareInterface>EffortJointInterface</hardwareInterface>
      <mechanicalReduction>1</mechanicalReduction>
    </actuator>
    <joint name="gripper_2_finger_joint_r">
      <hardwareInterface>EffortJointInterface</hardwareInterface>
    </joint>
  </transmission>
  <joint name="base_laser_front_hokuyo_urg04_laser_joint" type="fixed">
    <axis xyz="0 1 0"/>
    <origin rpy="0 0 0" xyz="0.3 0 -0.03"/>
    <parent link="base_link"/>
    <child link="base_laser_front_link"/>
  </joint>
  <link name="base_laser_front_link" type="laser">
    <inertial>
      <mass value="0.16"/>
      <origin rpy="0 0 0" xyz="0 0 0"/>
      <inertia ixx="0.1" ixy="0" ixz="0" iyy="0.1" iyz="0" izz="0.1"/>
    </inertial>
    <visual>
      <origin rpy="0 0 0" xyz="0 0 0"/>
      <geometry>
        <mesh filename="meshes/sensors/hokuyo.dae"/>
      </geometry>
      <material name="DarkGrey"/>
    </visual>
    <collision>
      <origin rpy="0 0 0" xyz="0 0 0"/>
      <geometry>
        <mesh filename="meshes/sensors/hokuyo_convex.dae"/>
      </geometry>
    </collision>
  </link>
  <gazebo reference="base_laser_front_link">
    <sensor name="base_laser_front" type="ray">
      <always_on>true</always_on>
      <update_rate>10</update_rate>
      <pose>0 0 0 0 0 0</pose>
      <visualize>false</visualize>
      <ray>
        <scan>
          <horizontal>
            <samples>150</samples>
            <resolution>1.0</resolution>
            <min_angle>-1.57</min_angle>
            <max_angle>1.57</max_angle>
          </horizontal>
        </scan>
        <range>
          <min>0.05</min>
          <max>5.6</max>
          <resolution>0.36</resolution>
        </range>
      </ray>
      <plugin filename="libgazebo_ros_laser.so" name="gazebo_ros_base_laser_front_controller">
        <gaussianNoise>0.005</gaussianNoise>
        <alwaysOn>true</alwaysOn>
        <updateRate>10</updateRate>
        <topicName>base_scan</topicName>
        <frameName>/base_laser_front_link</frameName>
      </plugin>
    </sensor>
  </gazebo>
</robot>
